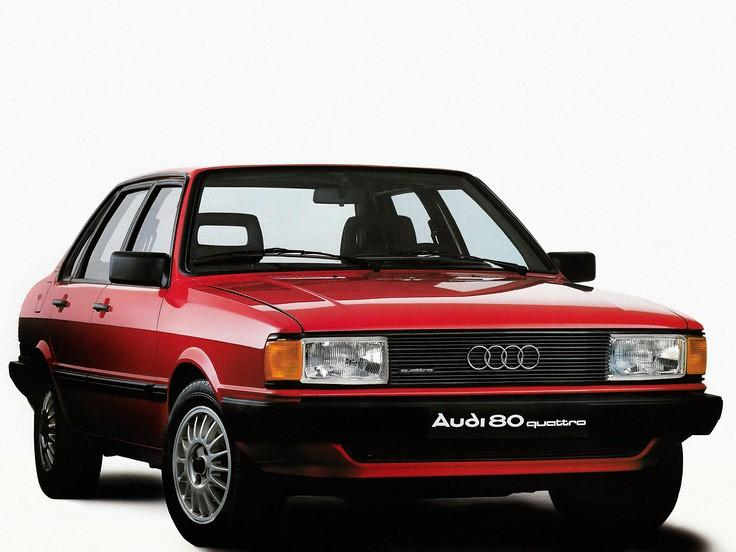windshield: (182, 167, 570, 290)
